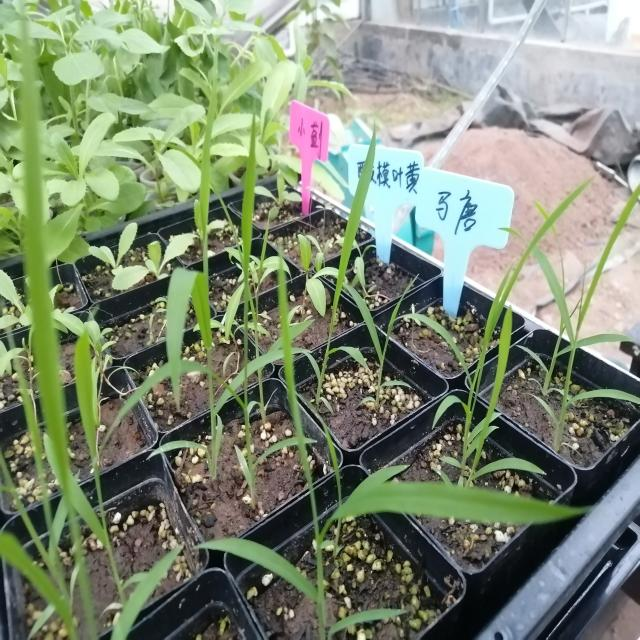crabgrass: (416, 177, 553, 490), (516, 160, 630, 444), (353, 269, 432, 411)
